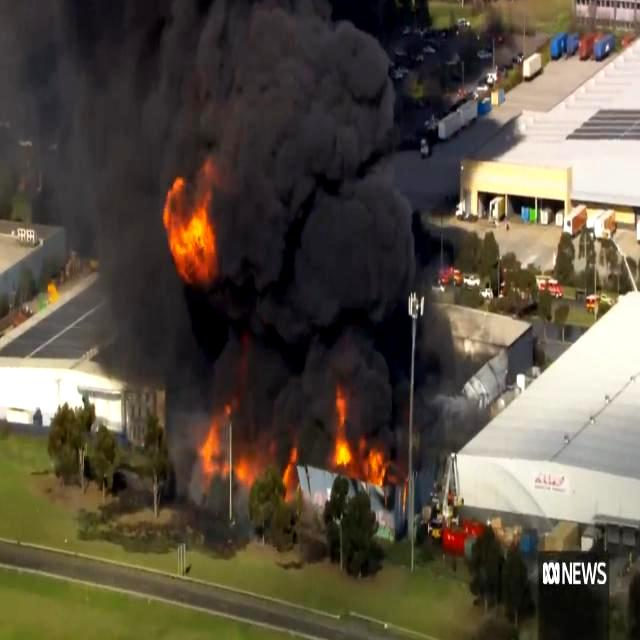fire: (161, 160, 227, 284), (202, 415, 268, 493), (362, 438, 392, 488), (334, 393, 352, 467)
